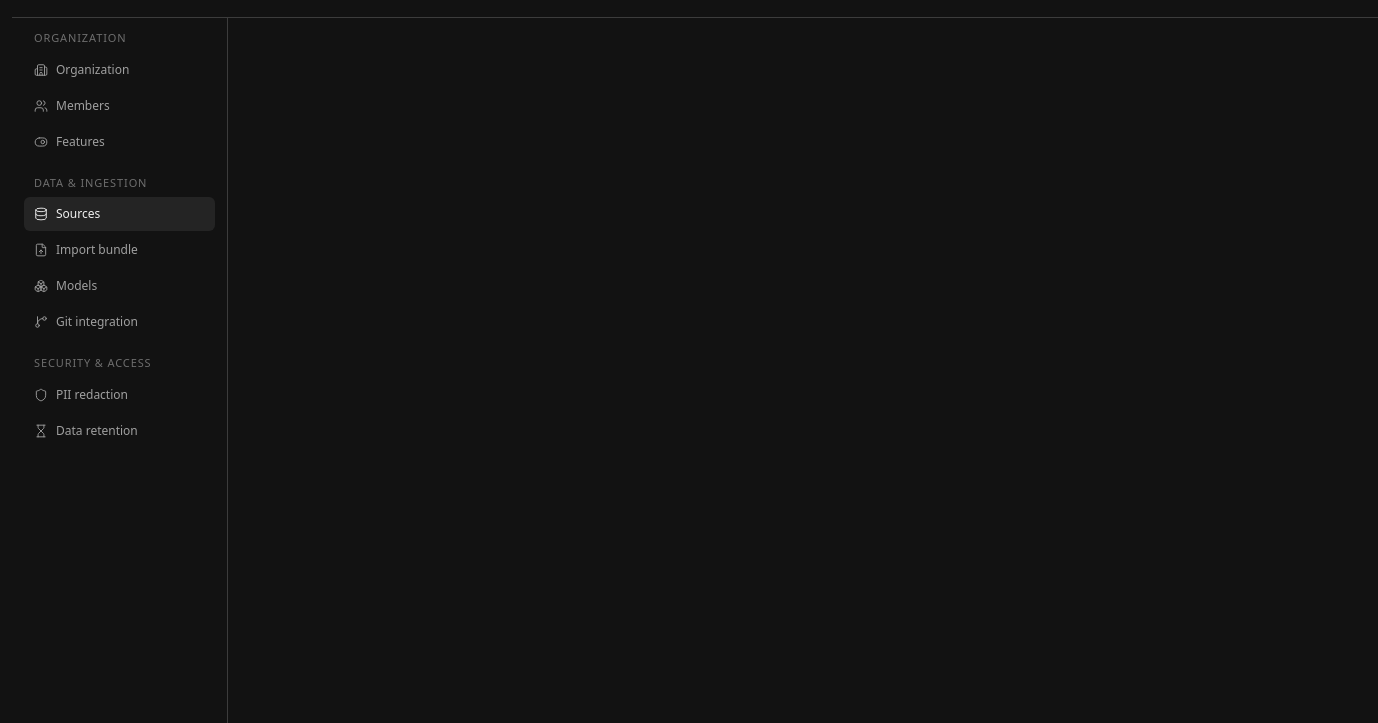
Test case: SettingsLayout: marks the section on screen, and opens another in this project
This screenshot has width=1378, height=723.
Click the button "Members" at point(120, 106), box 24,88 -> 215,122
(page scrolled)
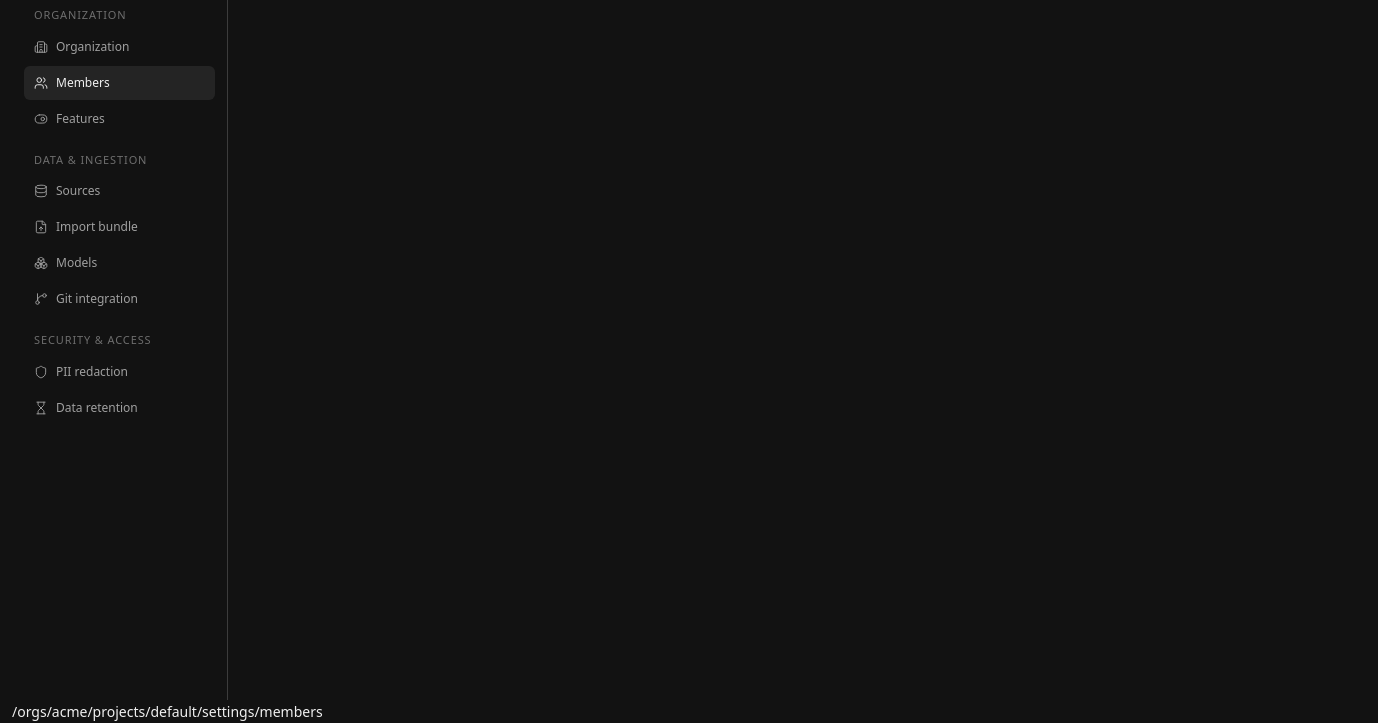
Expected: the text named "location" reads "/orgs/acme/projects/default/settings/members", 12,702 -> 323,721
